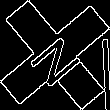N_NE: (23, 23, 87, 87)
